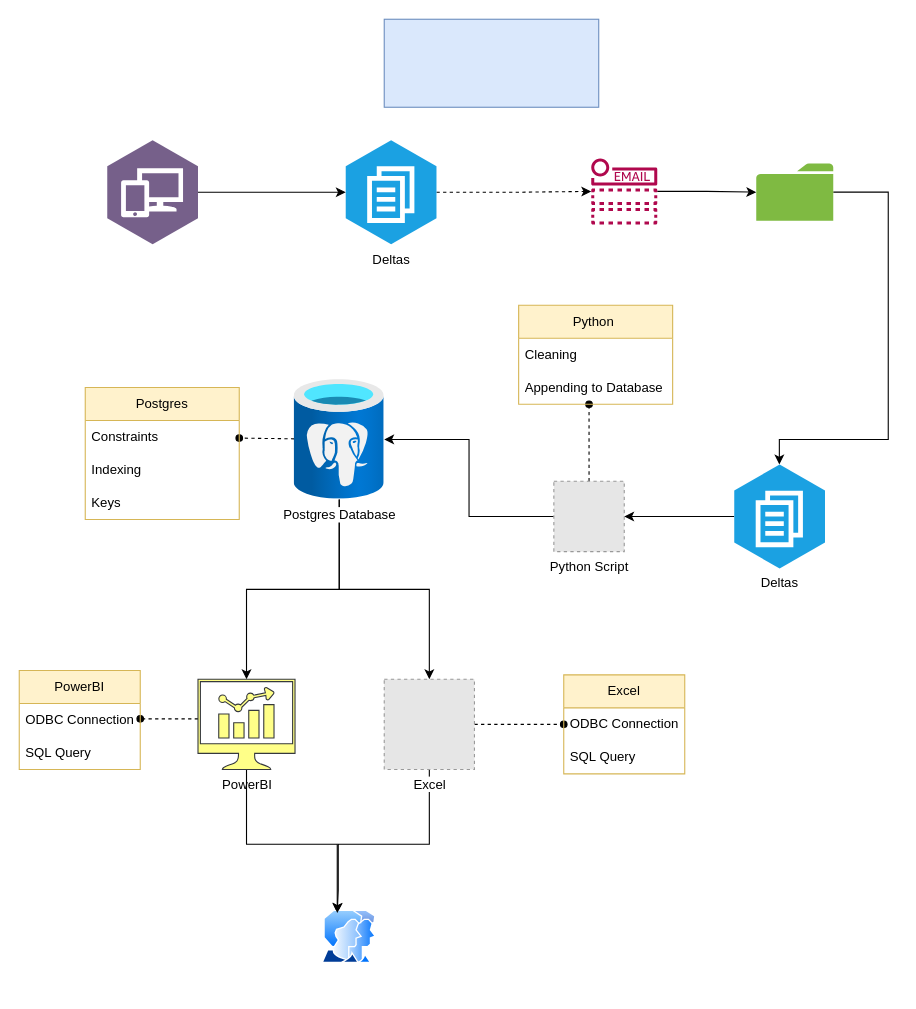
Some shapes in this 916 by 1009 pixel diagram are drawn without their labels. Grey dashed boxes stand in for pictures. The centre of each missing label's shape, as x and y in pixels:
"Data Injection (Dynamic Data)" belongs at point (491, 62).
"Email Notification BI Inbox" belongs at point (624, 191).
"Storage On BI Drives" belongs at point (794, 191).
"User" belongs at point (348, 936).
"Xplan" belongs at point (152, 191).
